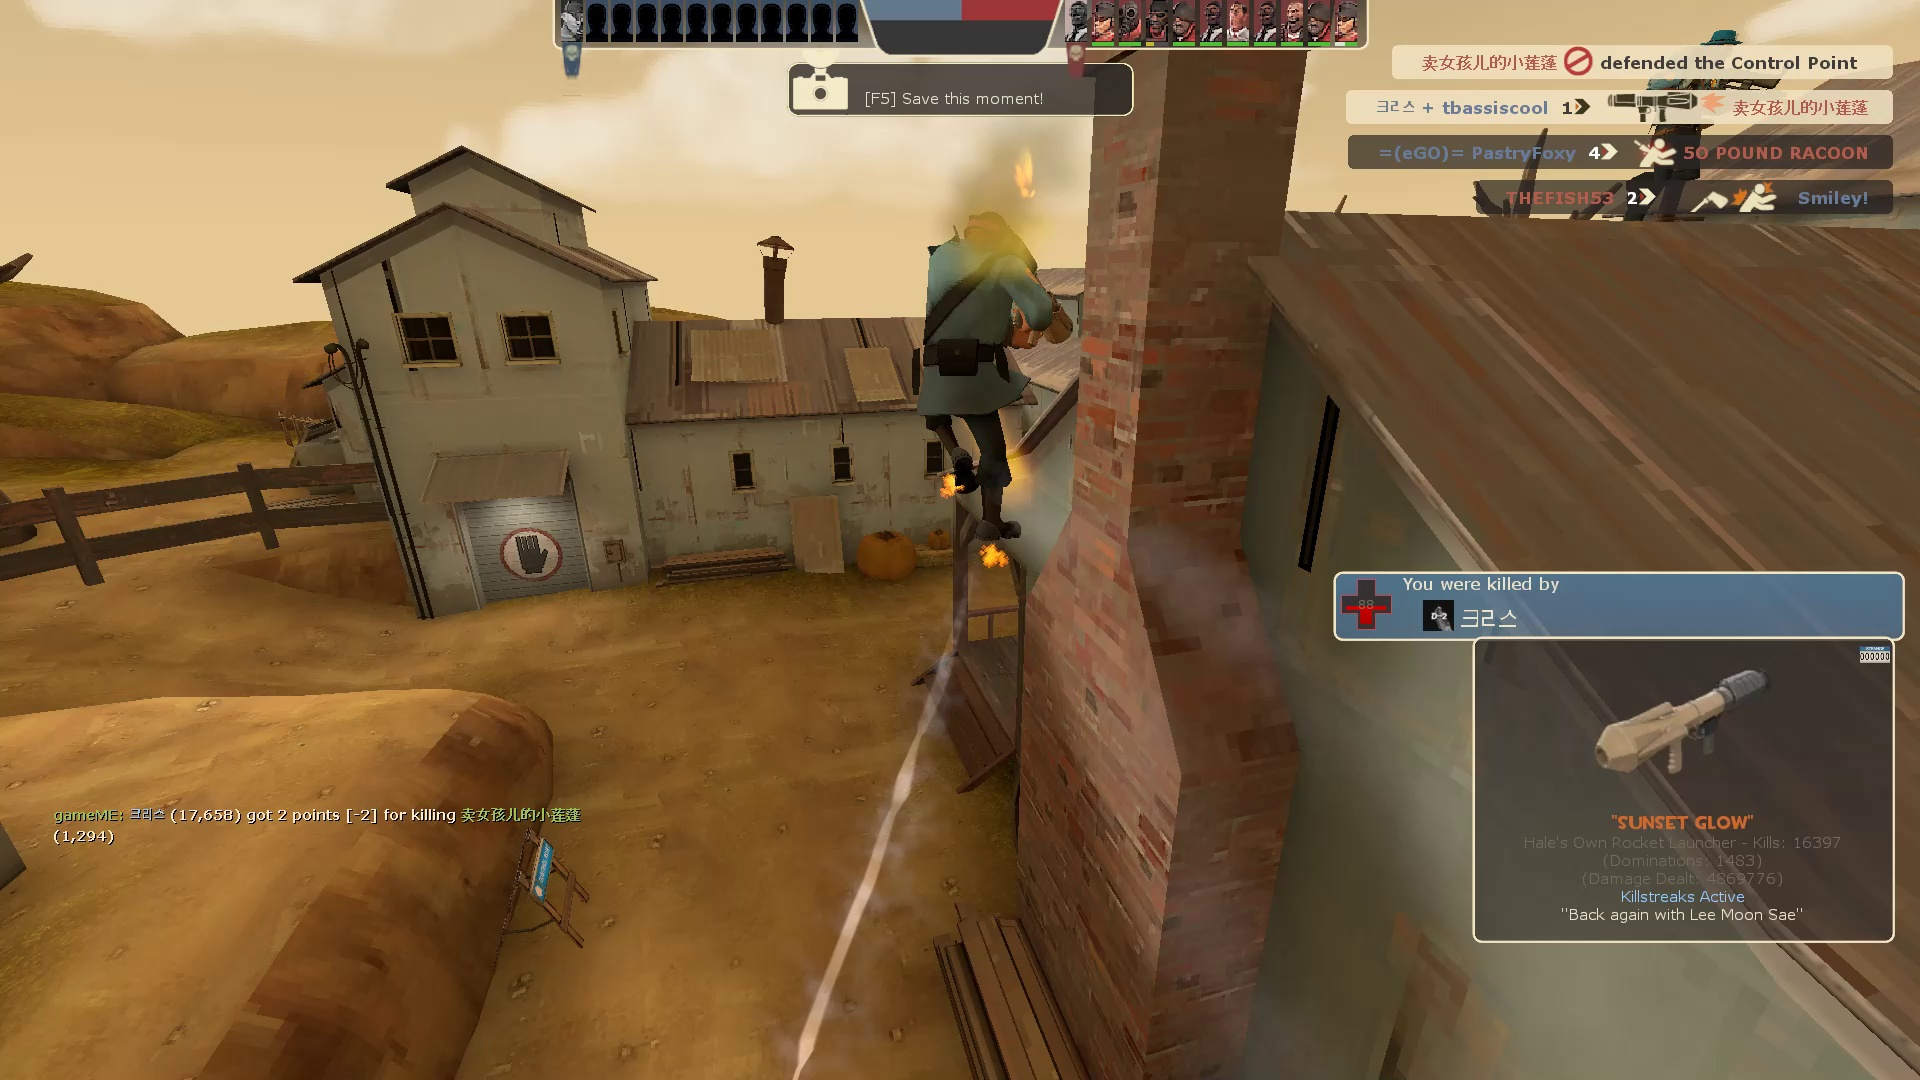blu_soldier: (910, 206, 1091, 553)
